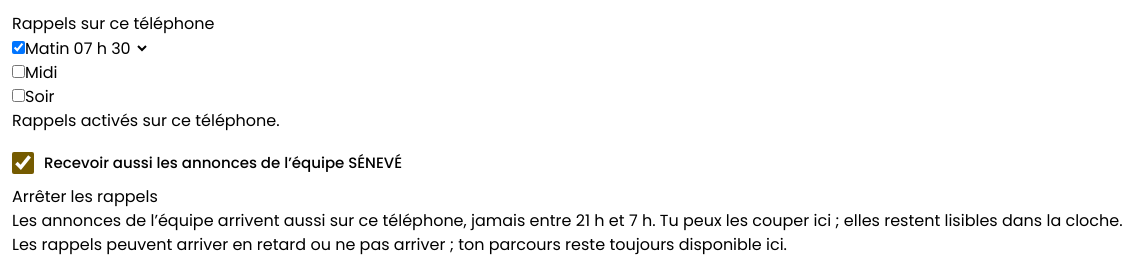
Test: annonces de l’équipe : annoncées dans les réglages et coupables séparément (décision du 29/10/2026)
Expected: the text "jamais entre 21 h et 7 h" is shown, [12,209,1123,232]
What coordinates should you click on to do the following:
click the checkbox labelled "Recevoir aussi les annonces de l’équipe SÉNEVÉ"
I would click on:
 (23, 163)
Its box is [12,152,34,174].
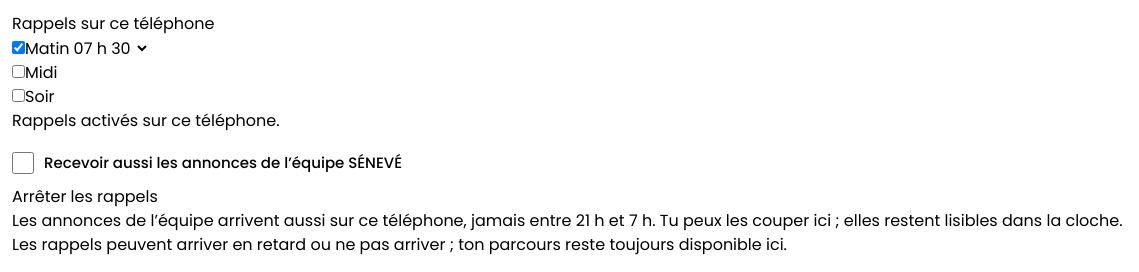
Expected: the checkbox labelled "Recevoir aussi les annonces de l’équipe SÉNEVÉ" is not checked, [12,152,34,174]
